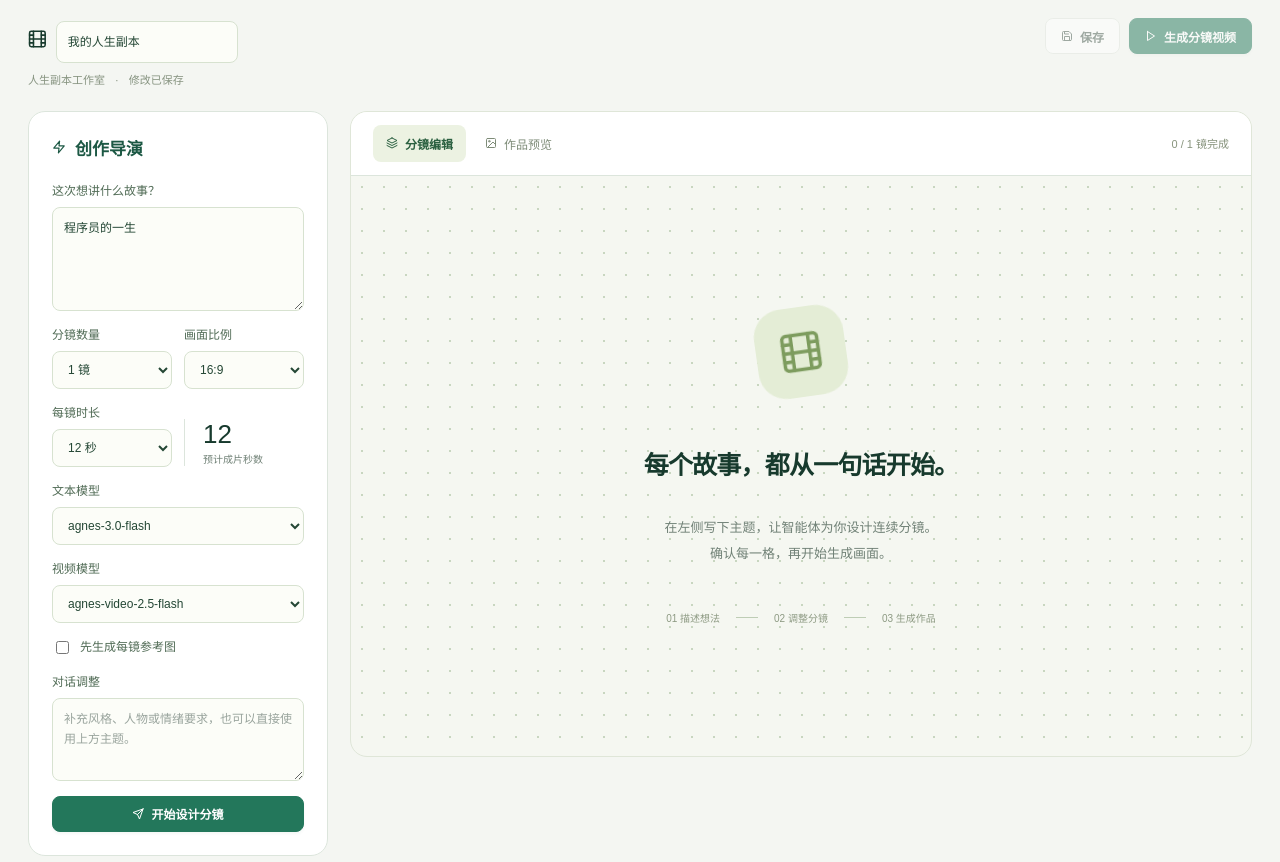
Scenario: 停止构思后丢弃迟到的设计结果，保留当前主题和调整要求
This screenshot has width=1280, height=862.
In the text box labelled "对话调整": (178, 739) [52,698,304,781], type "结尾温暖一点"
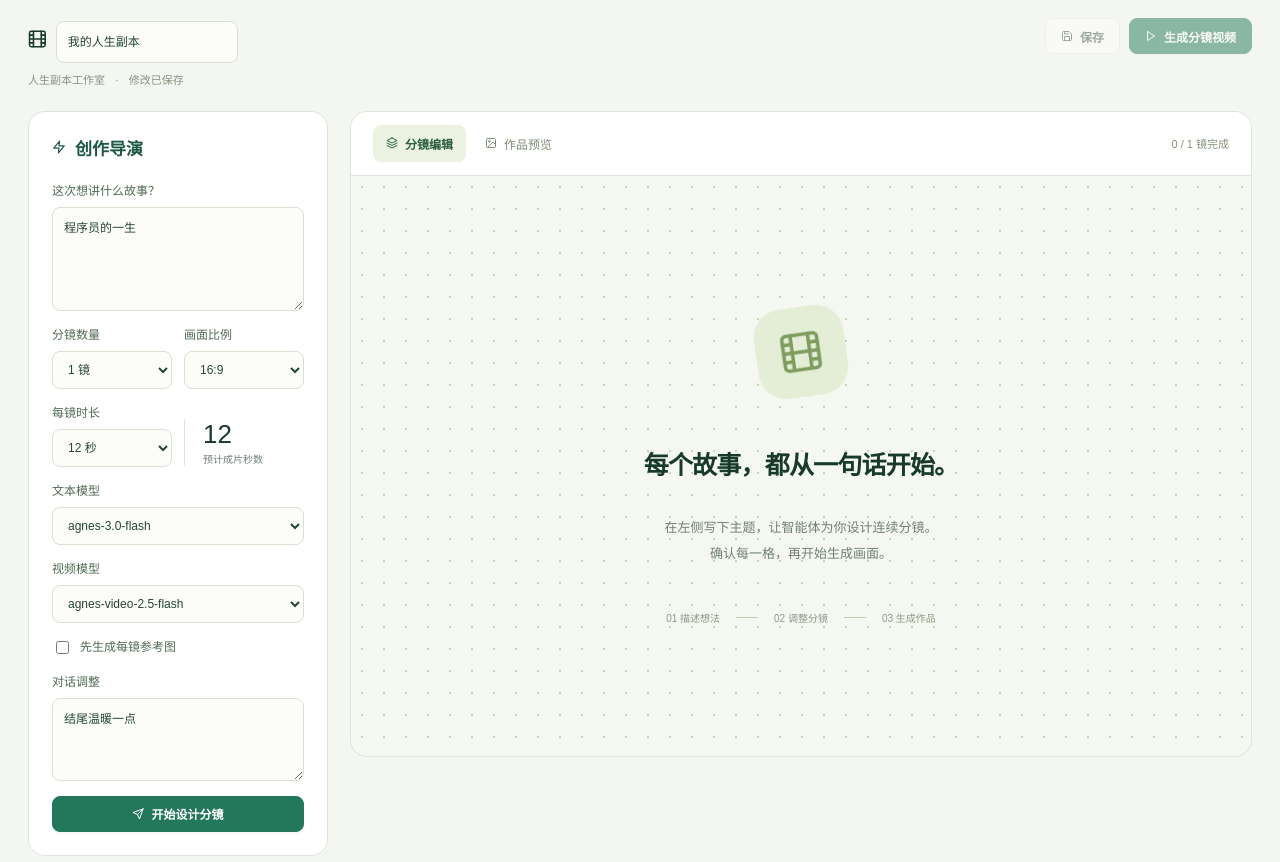
Click the button "开始设计分镜": (178, 814) [52,796,304,832]
(page scrolled)
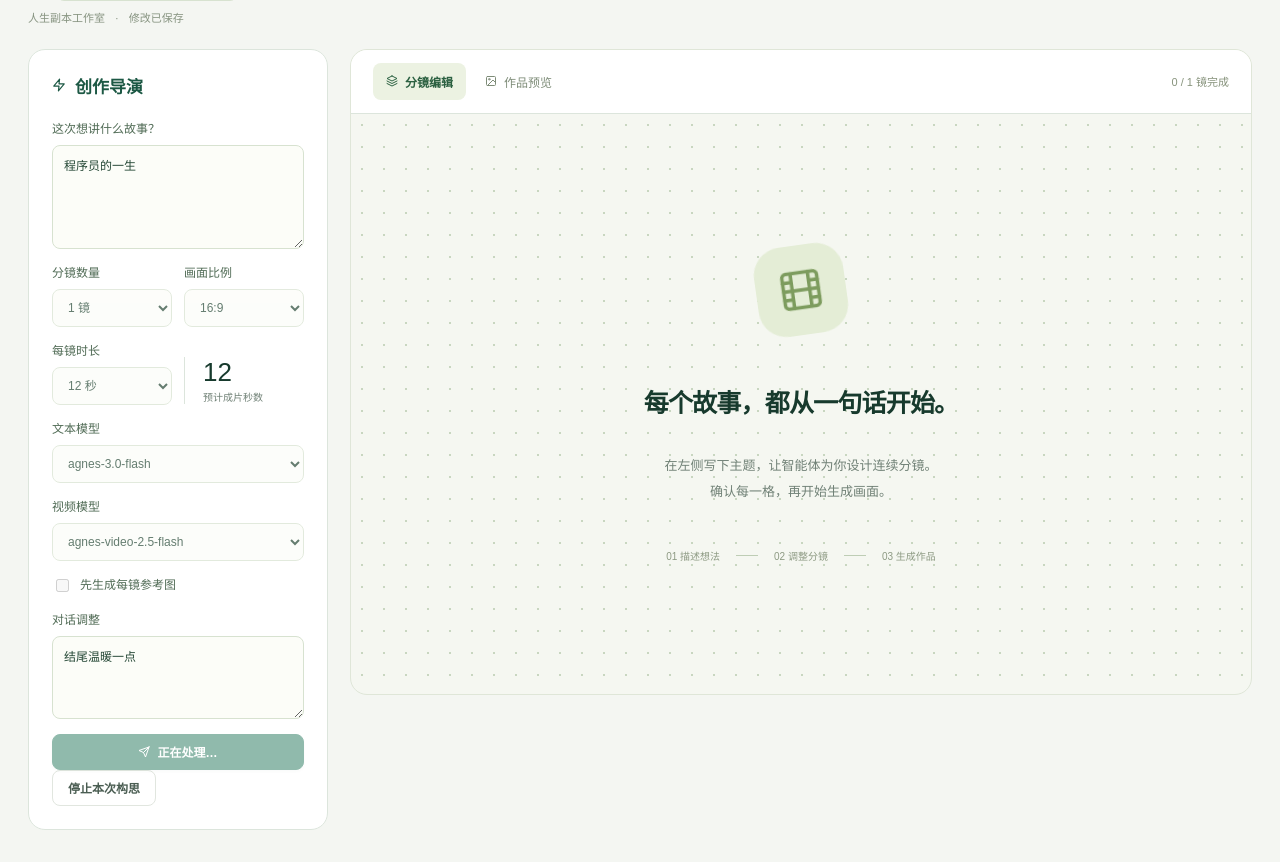
Click the button "停止本次构思": (104, 788) [52,770,156,806]
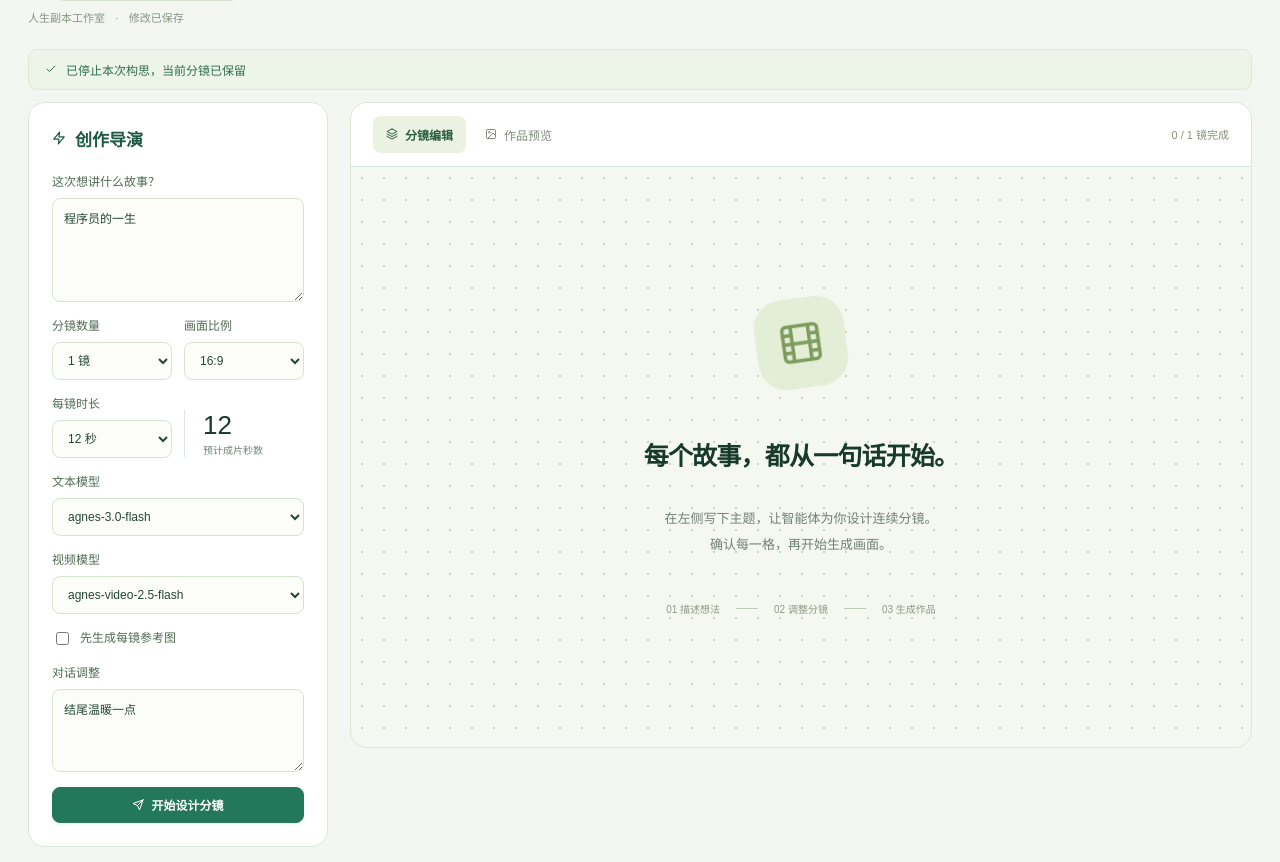
Now the text "已停止本次构思，当前分镜已保留" is shown, box [28,49,1252,90]
